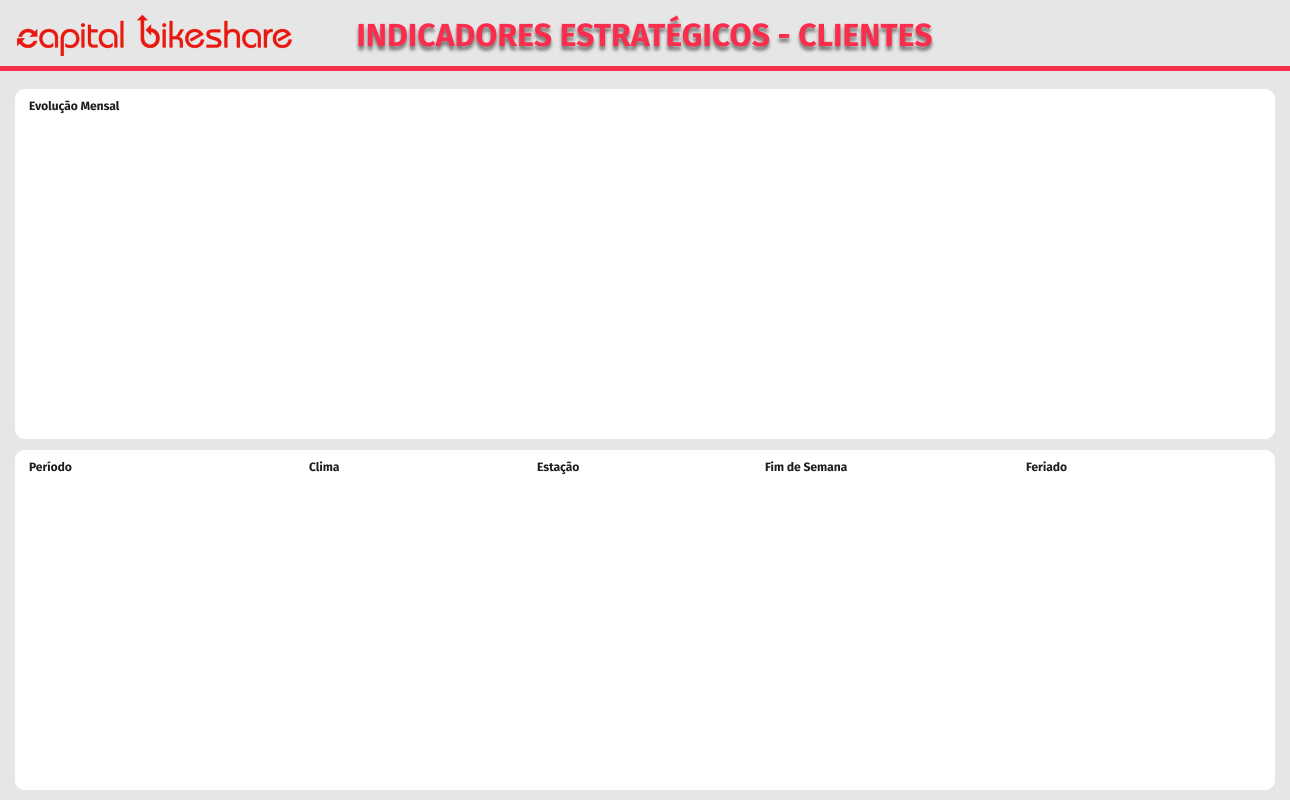

This screenshot's page, from the dashboard's own definition file:
{"tool":"powerbi","page":{"name":"Indicadores - Clientes","canvas":[1290,800],"ordinal":0},"visuals":[{"type":"clusteredColumnChart","fields":{"Category":["Calendario (PT-BR).Nome Mês Completo"],"Y":["001. Medidas Usuários.Total Usuários Ano Anterior","001. Medidas Usuários.Total Usuários"]},"box":[19.8,120,1250.2,280],"z":0,"group":"g1"},{"type":"slicer","fields":{"Values":["Calendario (PT-BR).Ano","Calendario (PT-BR).Nome Mês Completo"]},"box":[65.3,440.5,196.9,42],"z":0},{"type":"slicer","fields":{"Values":["Usuarios.Usuários"]},"box":[1088.8,129.9,169.5,61.1],"z":1000,"group":"g1"},{"type":"group","id":"g1","title":"Grupo 1","box":[19.8,120,1250.4,279.7],"z":1000},{"type":"slicer","fields":{"Values":["Holiday (PT-BR).Feriado"]},"box":[1060.4,440.5,196.9,42],"z":2000},{"type":"slicer","fields":{"Values":["Season (PT-BR).Estação do Ano"]},"box":[573.3,440.5,185.3,42],"z":3000},{"type":"slicer","fields":{"Values":["Weather (PT-BR).Clima"]},"box":[332.1,440.5,149.2,42],"z":4000},{"type":"slicer","fields":{"Values":["Workingday (PT-BR).Fim de Semana"]},"box":[839,440.5,189.9,42],"z":5000},{"type":"cardVisual","title":"Informações Gerais:","fields":{"Data":["002. Medidas Capital Share Bikes.Média Casual","002. Medidas Capital Share Bikes.Média Registrado","002. Medidas Capital Share Bikes.Total Clientes"]},"box":[19.8,490.6,159.6,285.5],"z":6000},{"type":"columnChart","title":"Aluguel por Temperatura","fields":{"Y":["002. Medidas Capital Share Bikes.Total Casual","002. Medidas Capital Share Bikes.Total Registrado"],"Category":["Range Temperatura (PT-BR).Range Temperatura"]},"box":[196.9,490.6,1060.4,285.5],"z":7000},{"type":"shape","title":"Botão Hora","box":[1089.4,490.4,40.4,25.1],"z":12125},{"type":"shape","title":"Botão Temp","box":[1138.8,490.4,40.4,25.1],"z":12250},{"type":"shape","title":"Botão Dia","box":[1188.3,490.4,40.4,25.1],"z":12500}]}

Visuals, with their boxes in screenshot pixels (x1, y1, x2, y2), scaled from the page's 1290x800 canvas onto the 1290x800 screenshot:
clusteredColumnChart - Calendario (PT-BR).Nome Mês Completo x 001. Medidas Usuários.Total Usuários Ano Anterior: <box>20,120,1270,400</box>
slicer - Calendario (PT-BR).Ano x Calendario (PT-BR).Nome Mês Completo: <box>65,440,262,482</box>
slicer - Usuarios.Usuários: <box>1089,130,1258,191</box>
"Grupo 1" group: <box>20,120,1270,400</box>
slicer - Holiday (PT-BR).Feriado: <box>1060,440,1257,482</box>
slicer - Season (PT-BR).Estação do Ano: <box>573,440,759,482</box>
slicer - Weather (PT-BR).Clima: <box>332,440,481,482</box>
slicer - Workingday (PT-BR).Fim de Semana: <box>839,440,1029,482</box>
"Informações Gerais:" cardVisual: <box>20,491,179,776</box>
"Aluguel por Temperatura" columnChart: <box>197,491,1257,776</box>
"Botão Hora" shape: <box>1089,490,1130,516</box>
"Botão Temp" shape: <box>1139,490,1179,516</box>
"Botão Dia" shape: <box>1188,490,1229,516</box>
